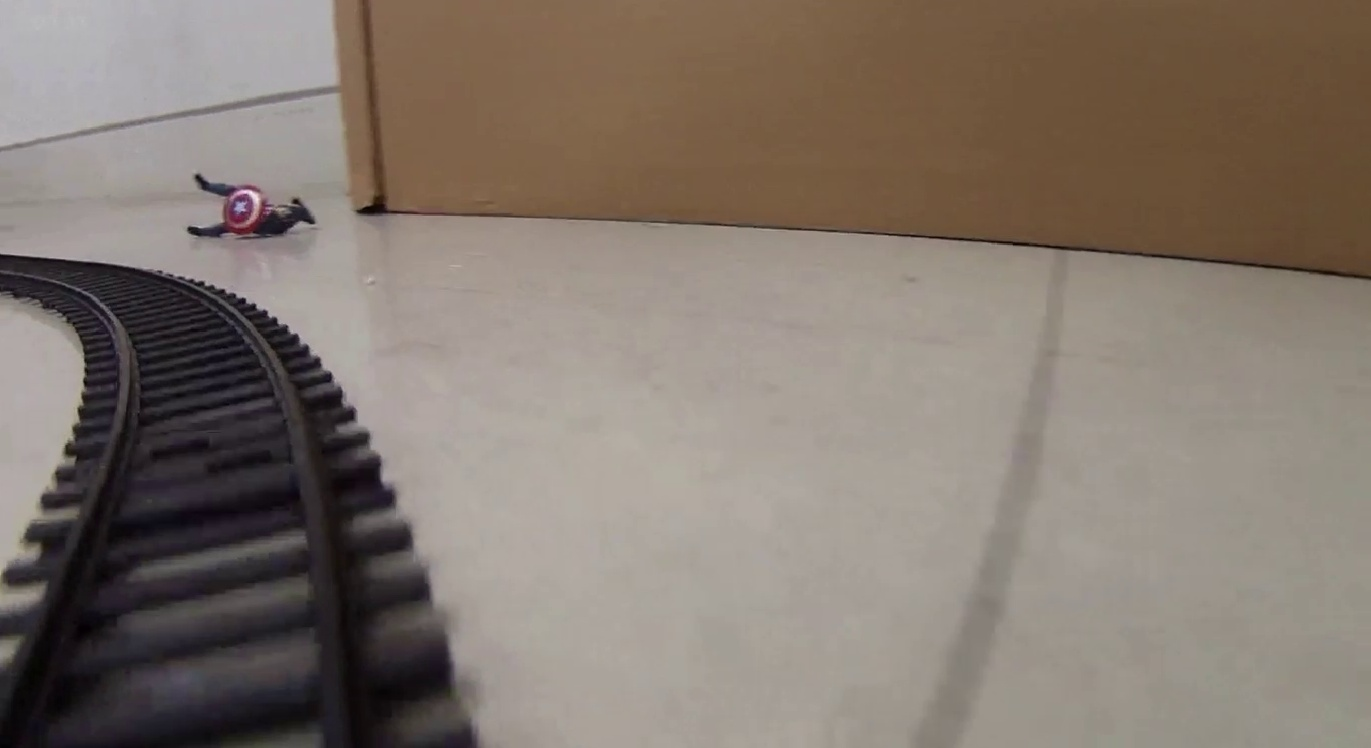people: (189, 168, 319, 241)
